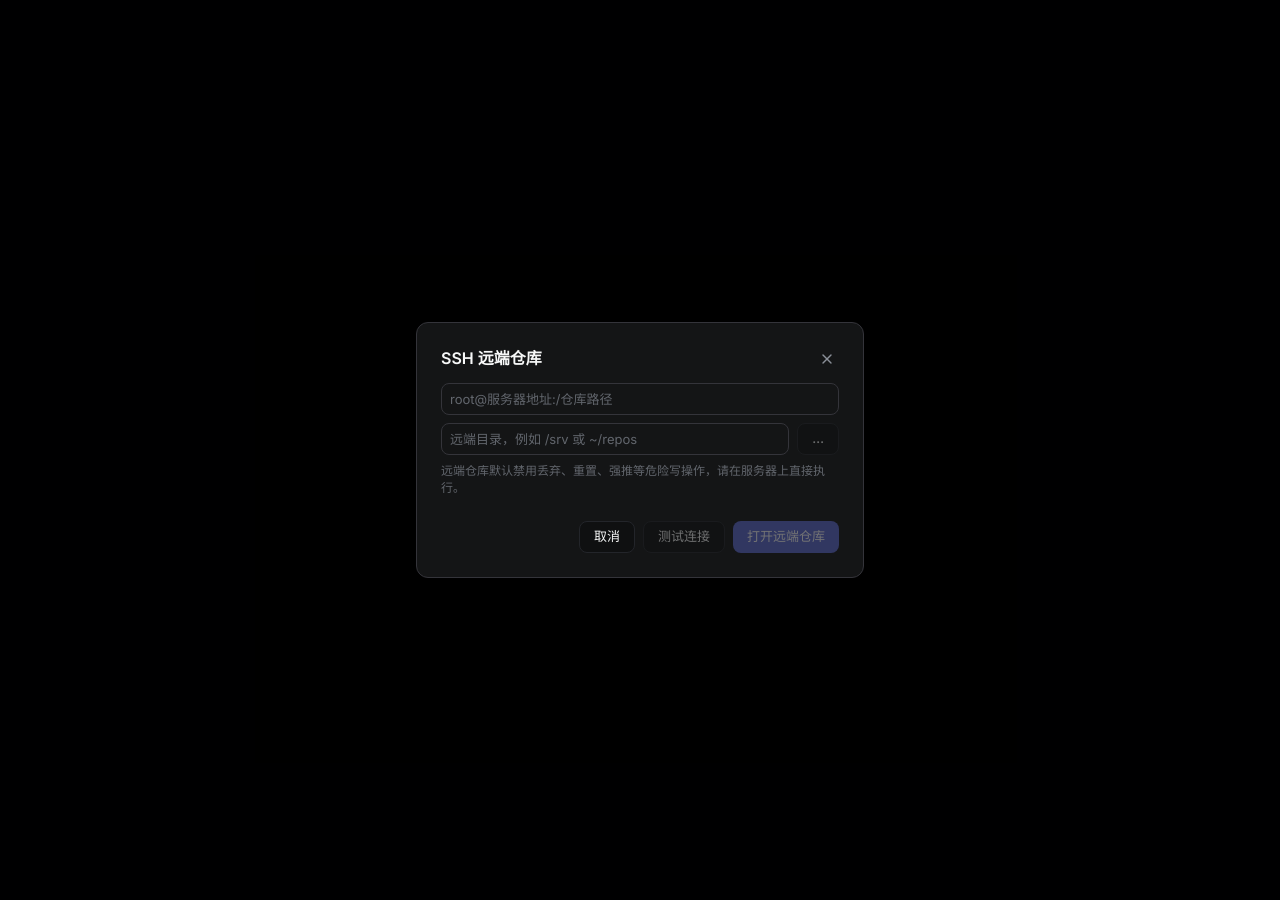
Test: SshDialog › browses remote directories and fills the path from entries
Type "root@host:/srv" into the field with test id "ssh-location-input".
click(640, 399); type("root@host:/srv")  # box top-left (441, 383), bottom-right (839, 415)
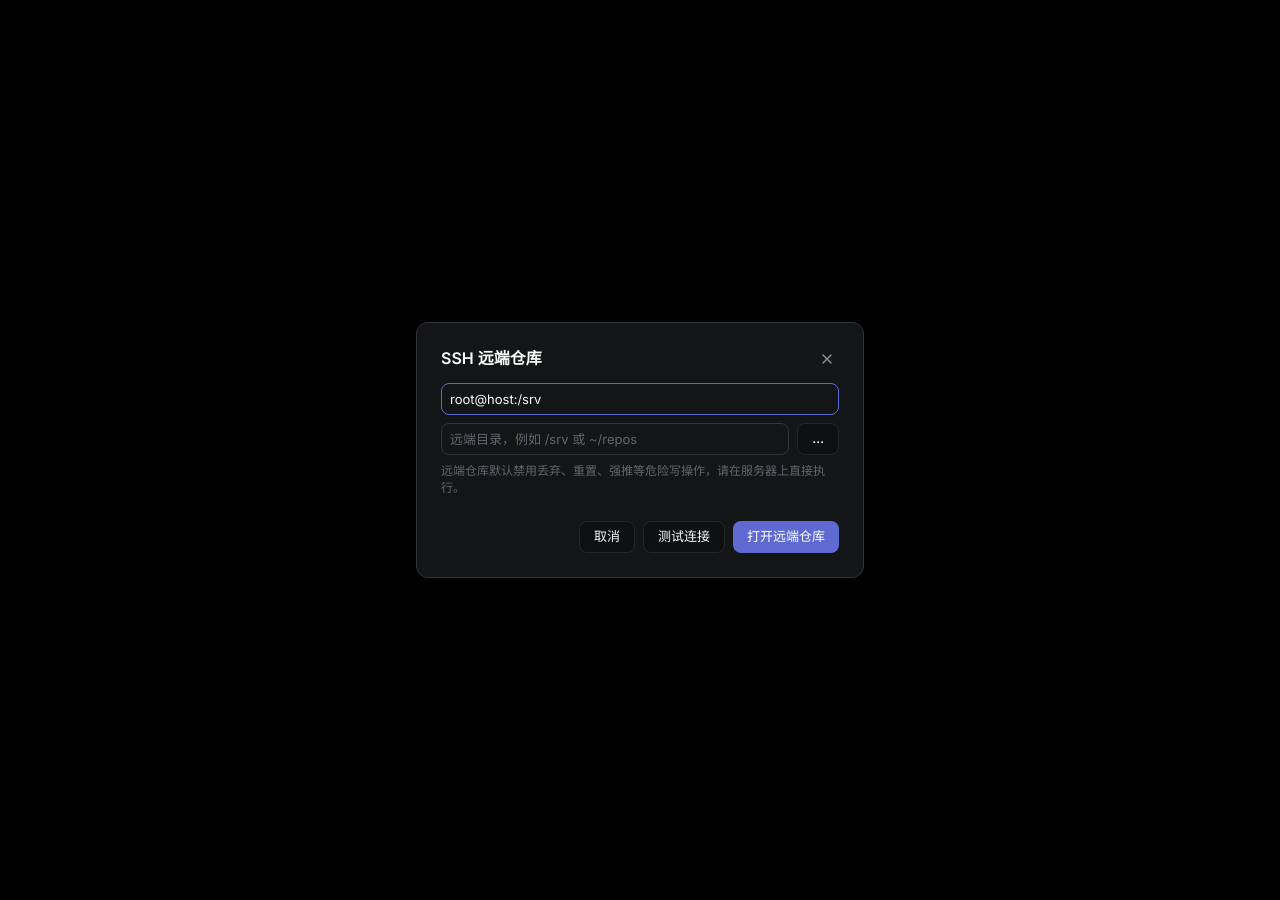
Type "/srv" into the field with test id "ssh-browse-input".
click(615, 439); type("/srv")  # box top-left (441, 423), bottom-right (789, 455)
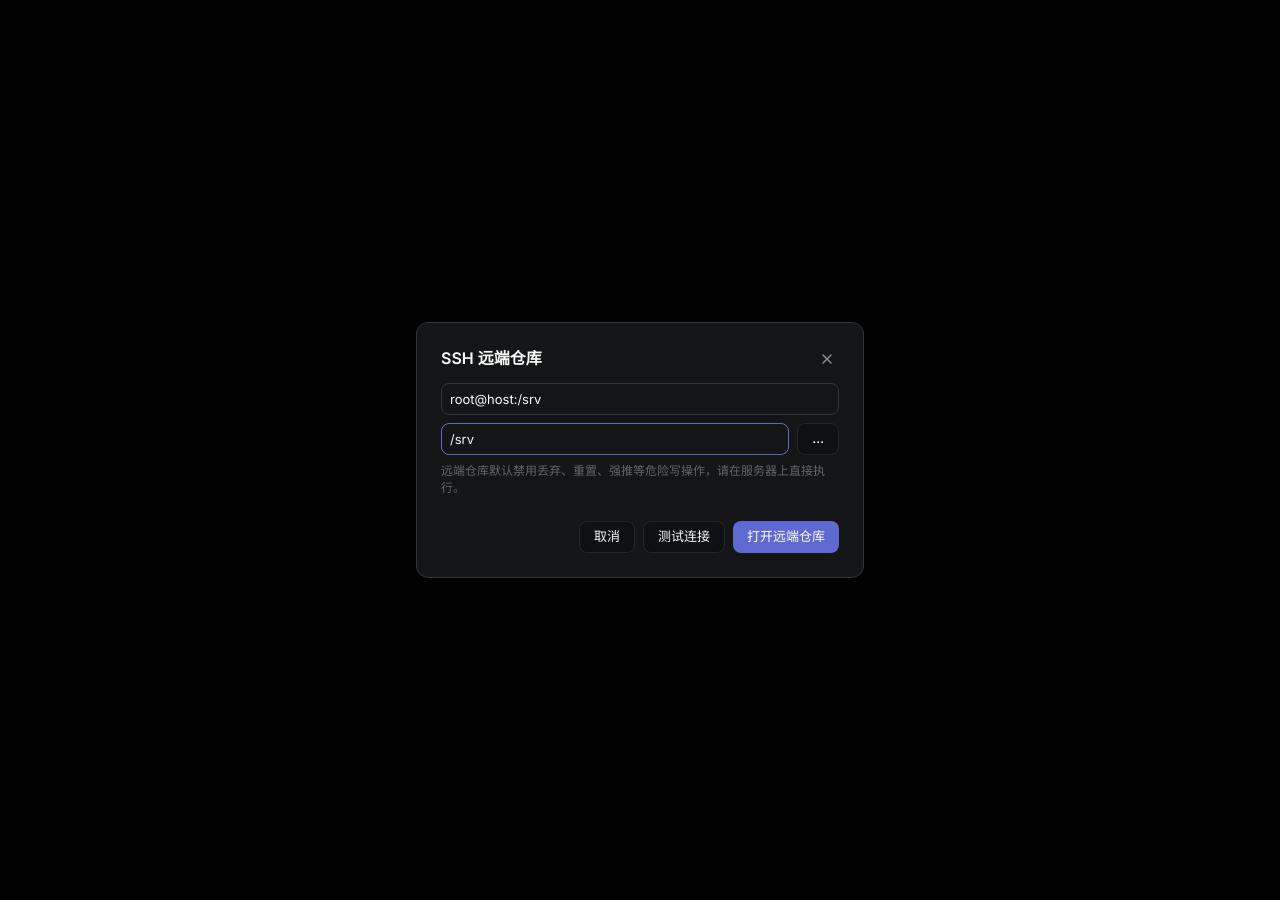
Click the button "…".
click(818, 439)  # box top-left (797, 423), bottom-right (839, 455)
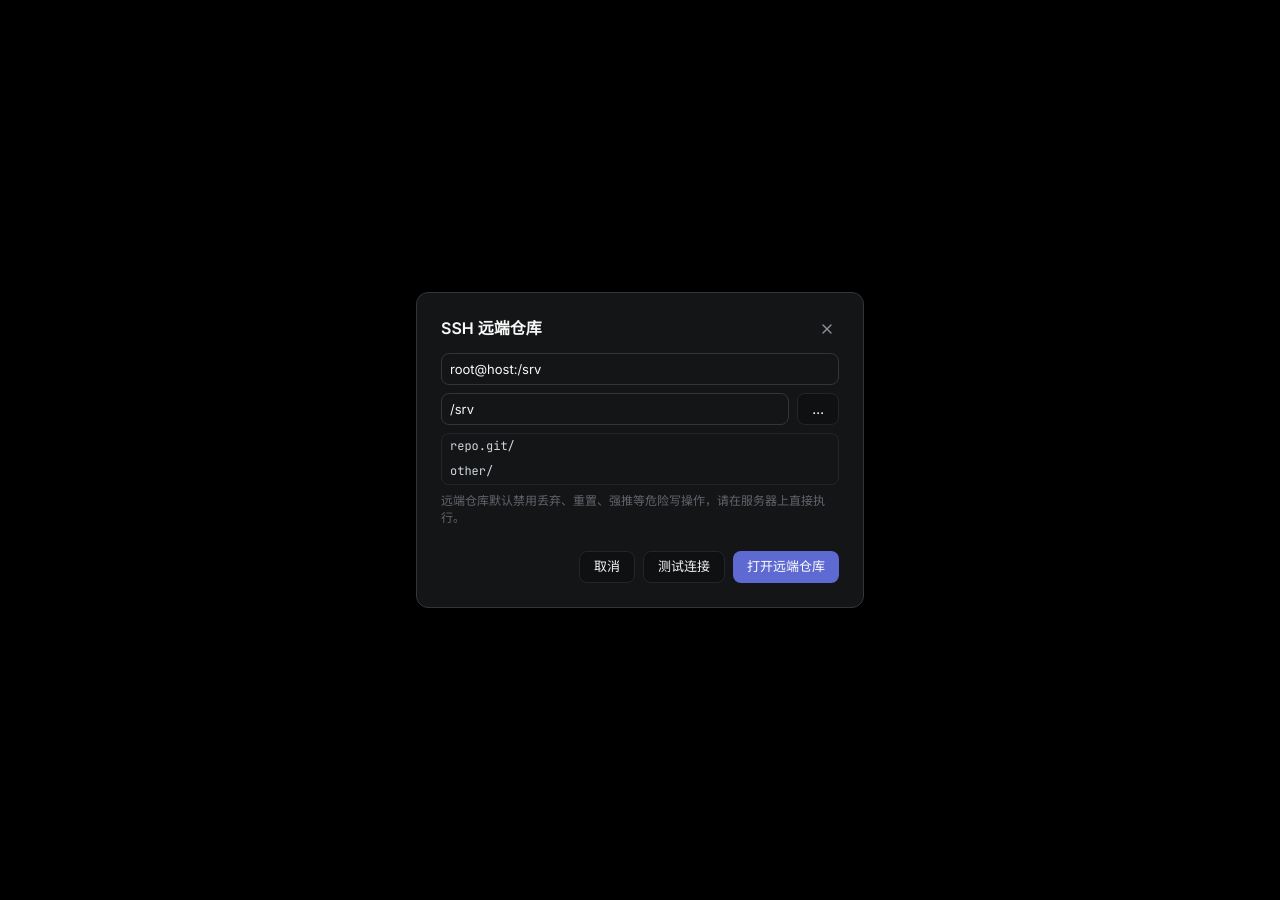
Expected: the list with test id "ssh-browse-list" is shown, top-left (441, 433), bottom-right (839, 485)
Click the button "repo.git/".
click(482, 446)  # box top-left (442, 434), bottom-right (838, 459)
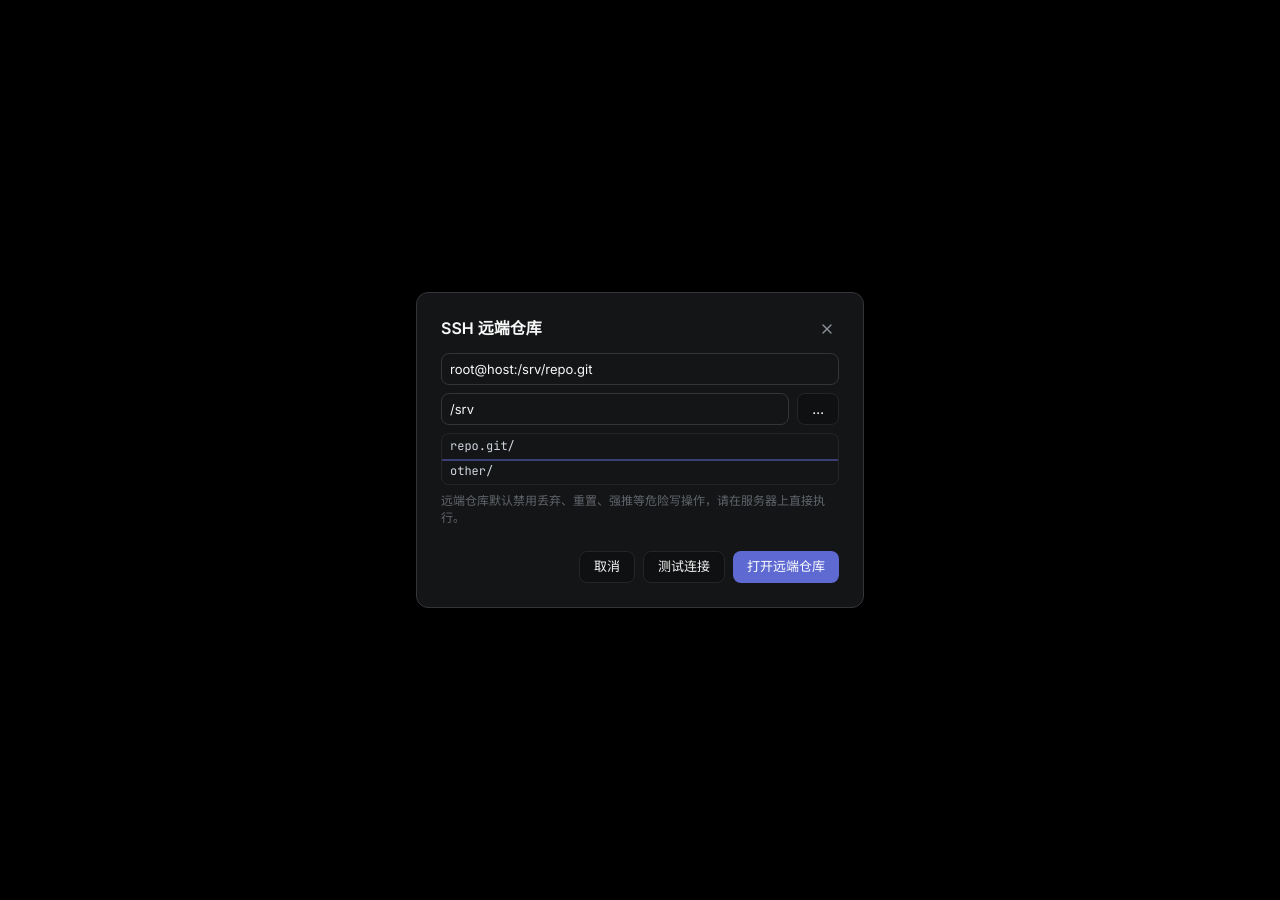
Expected: the field with test id "ssh-location-input" holds "root@host:/srv/repo.git", top-left (441, 353), bottom-right (839, 385)
